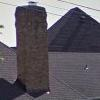Chimney: (9, 2, 61, 100)
